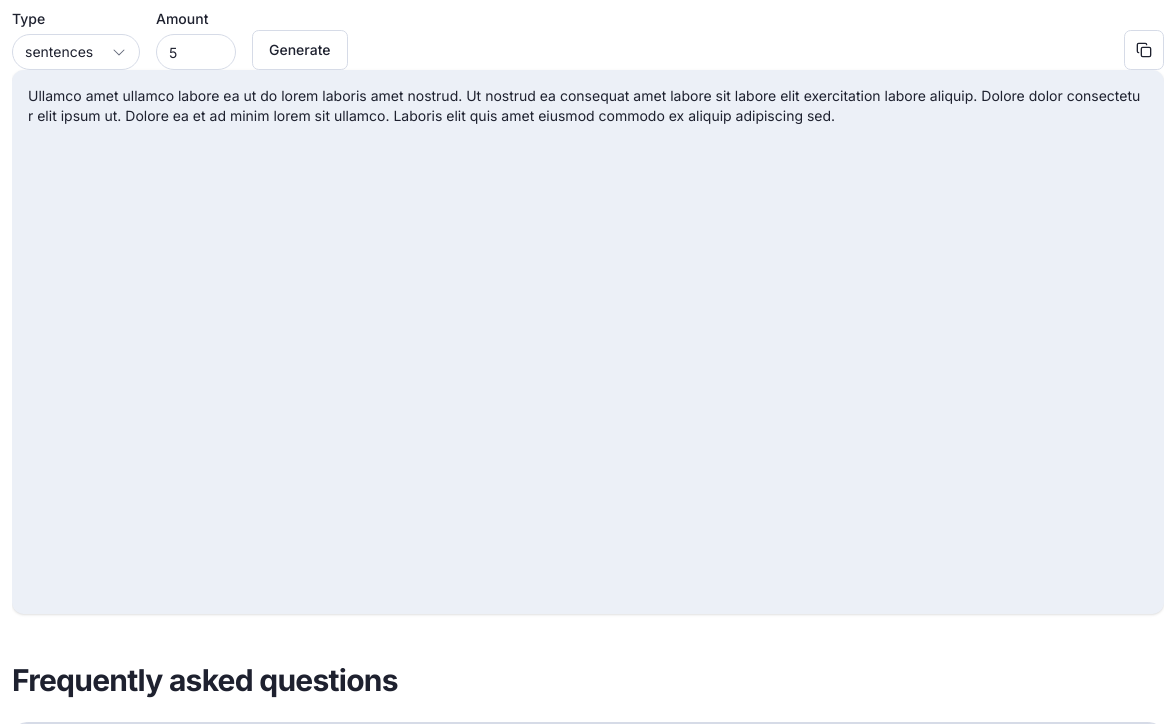
Scenario: <RandomTextGenerator /> › uses sensible defaults for character generation
Click the dropdown with test id "random-text-type-trigger" at x=76, y=52, box x1=12 y1=34 x2=140 y2=70
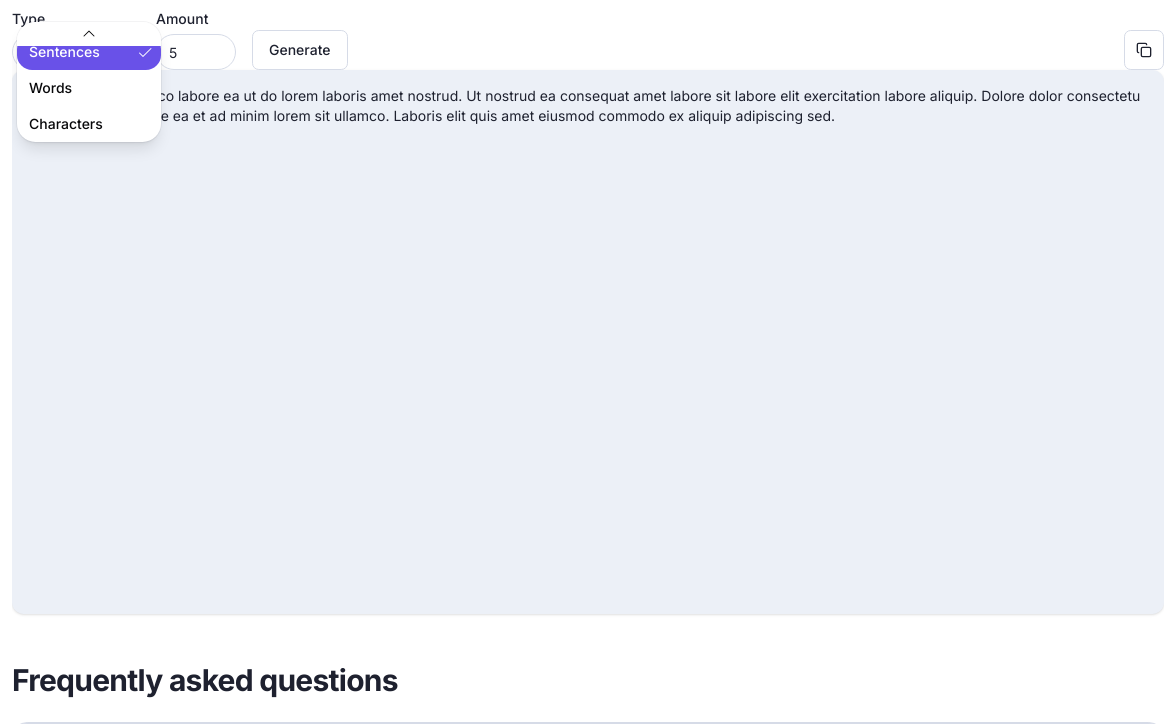
Click the option with test id "random-text-type-characters" at x=66, y=124, box x1=29 y1=115 x2=103 y2=132
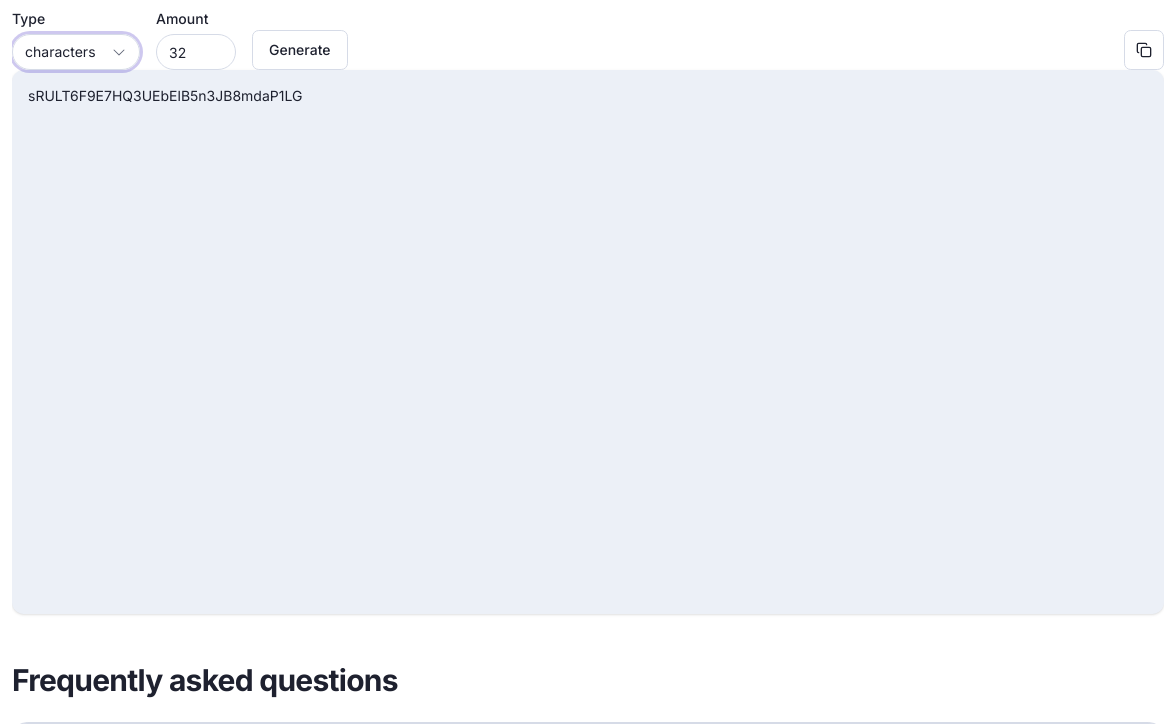
Expected: the number field with test id "random-text-amount" holds "32"
Replace the text in the number field with test id "random-text-amount" with "1001" at x=196, y=52, box x1=156 y1=34 x2=236 y2=70
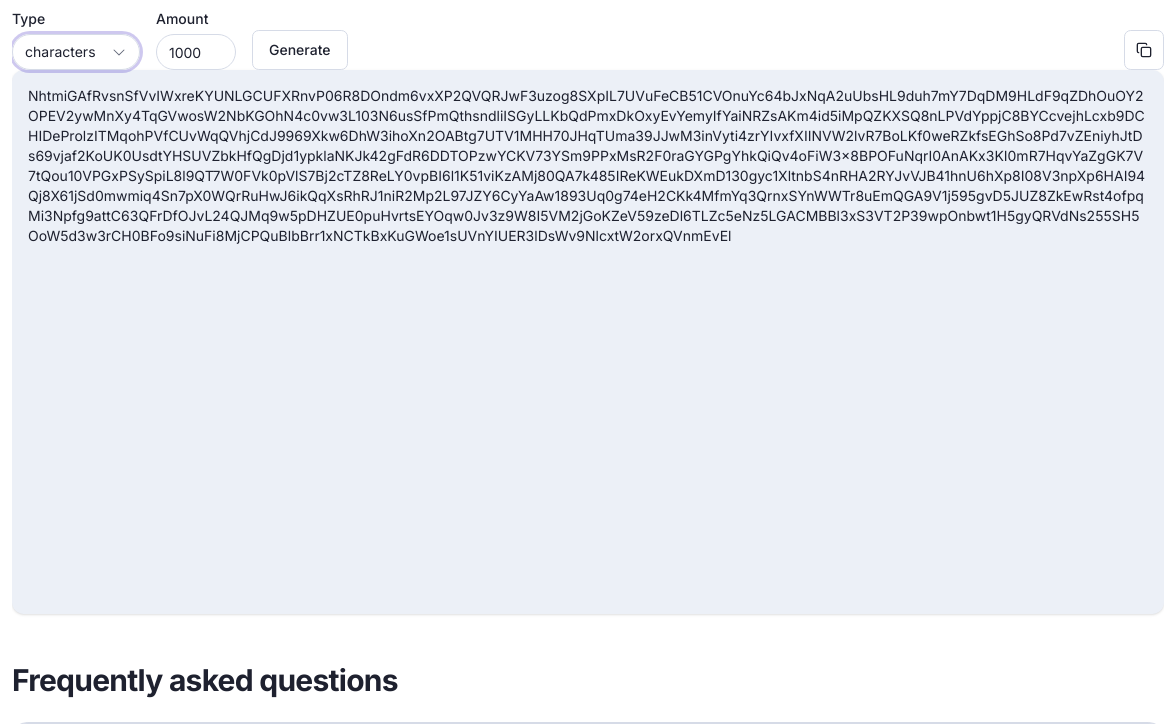
Expected: the number field with test id "random-text-amount" holds "1000", x1=156 y1=34 x2=236 y2=70
